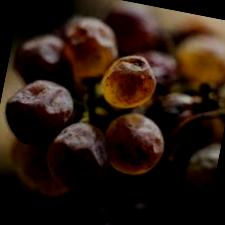Grape Rotten: (0, 0, 225, 225), (0, 72, 78, 151), (96, 48, 162, 115)
